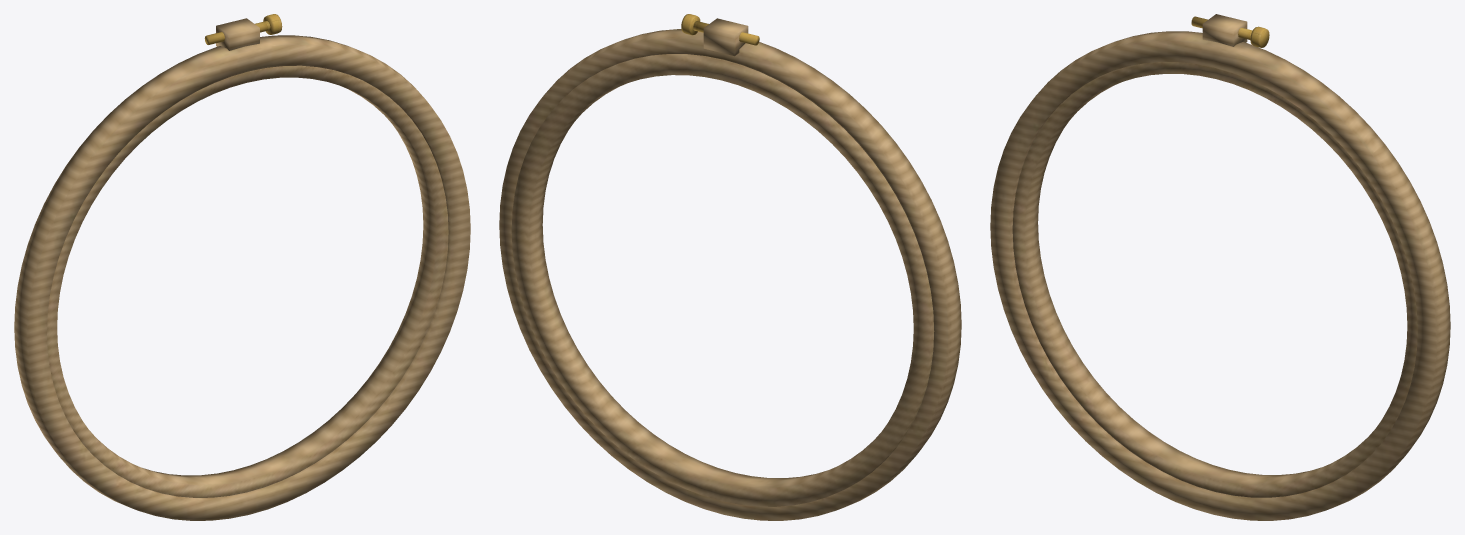
The model's file is hud_hoop.glb.
3 views of the same model, side by side, from view 1: azimuth 30°, elevation 25°; view 2: azimuth 150°, elevation 25°; view 3: azimuth 330°, elevation 25° (orthographic).
Visible parts, largest first — view 1: prop_hud_hoop_wood, prop_hud_hoop_felt; view 2: prop_hud_hoop_wood, prop_hud_hoop_felt; view 3: prop_hud_hoop_wood, prop_hud_hoop_felt.
Part boxes in pixels (<box>): prop_hud_hoop_wood: <box>14,18,470,520</box>; prop_hud_hoop_felt: <box>204,14,282,44</box>; prop_hud_hoop_wood: <box>499,18,961,520</box>; prop_hud_hoop_felt: <box>681,14,759,45</box>; prop_hud_hoop_wood: <box>990,14,1450,520</box>; prop_hud_hoop_felt: <box>1191,16,1269,47</box>.
Bounding box in the file's own units: 2.32 × 2.4 × 0.16.
2 materials, 2 textured.
